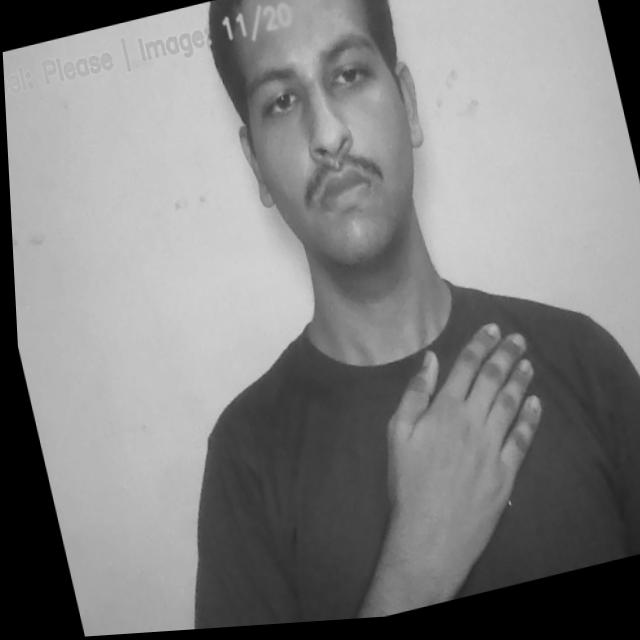Please: (352, 301, 598, 606)
